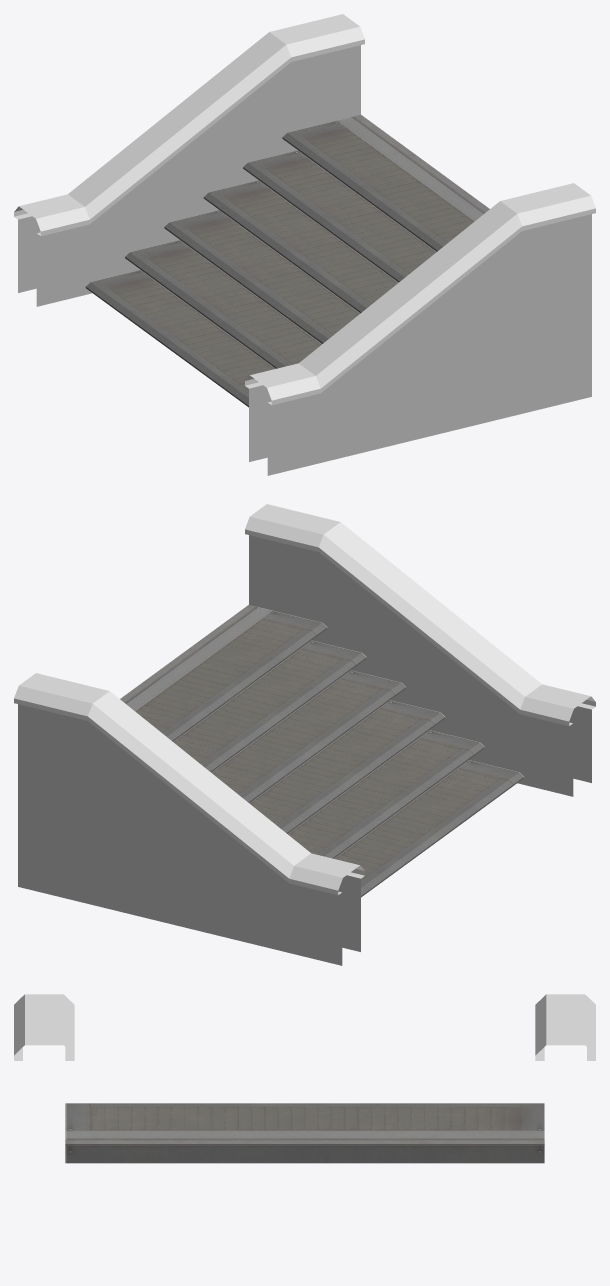
Rendered from Stairs.fbx.
3 views of the same model, one above another, from view 1: azimuth 30°, elevation 25°; view 2: azimuth 150°, elevation 25°; view 3: azimuth 270°, elevation 25° (orthographic). The views are drawn at different scales.
Visible parts, largest first — view 1: Stairs; view 2: Stairs; view 3: Stairs.
Part boxes in pixels (x1,y1,x2,y2): Stairs: (14, 14, 595, 475); Stairs: (14, 504, 595, 965); Stairs: (14, 994, 595, 1163).
Size of the model in its own units: 300 by 177 by 413.
